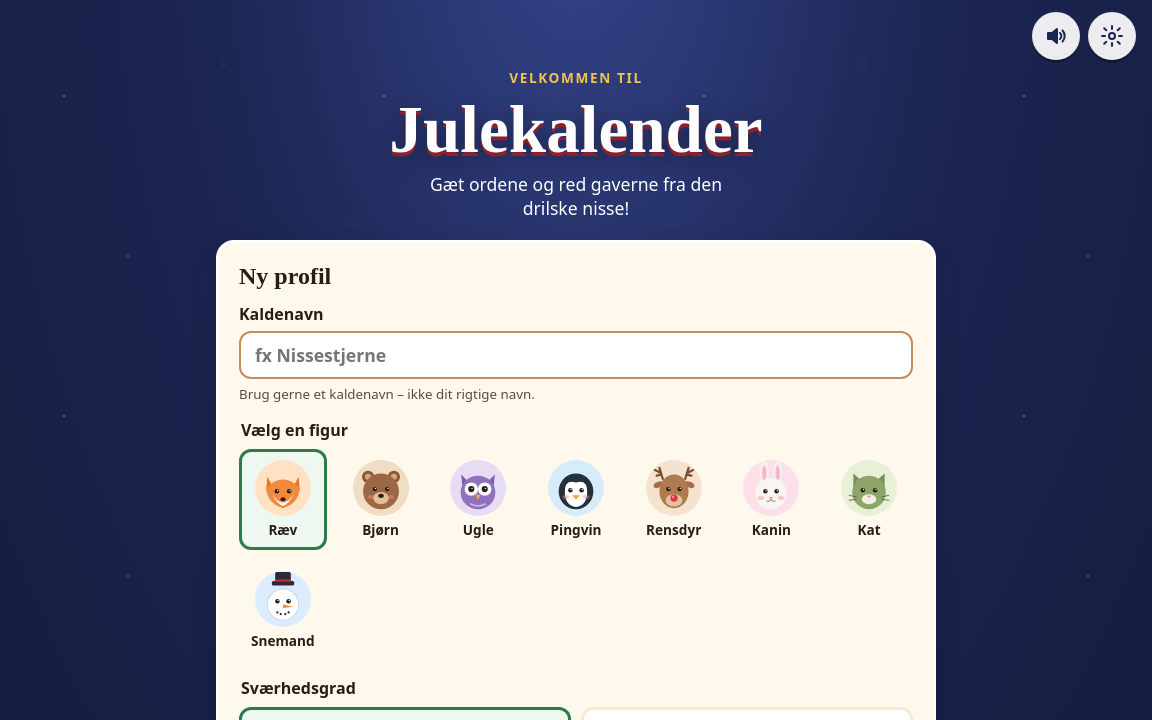
Test case: app-flow › Freeplay er tydeligt markeret og ændrer ikke kalendergaver
Later steps or results of the test are not shown.
In the field labelled "Kaldenavn Brug gerne et kaldenavn – ikke dit rigtige navn.": (576, 355) [239,331,913,379], type "Fri"
(page scrolled)
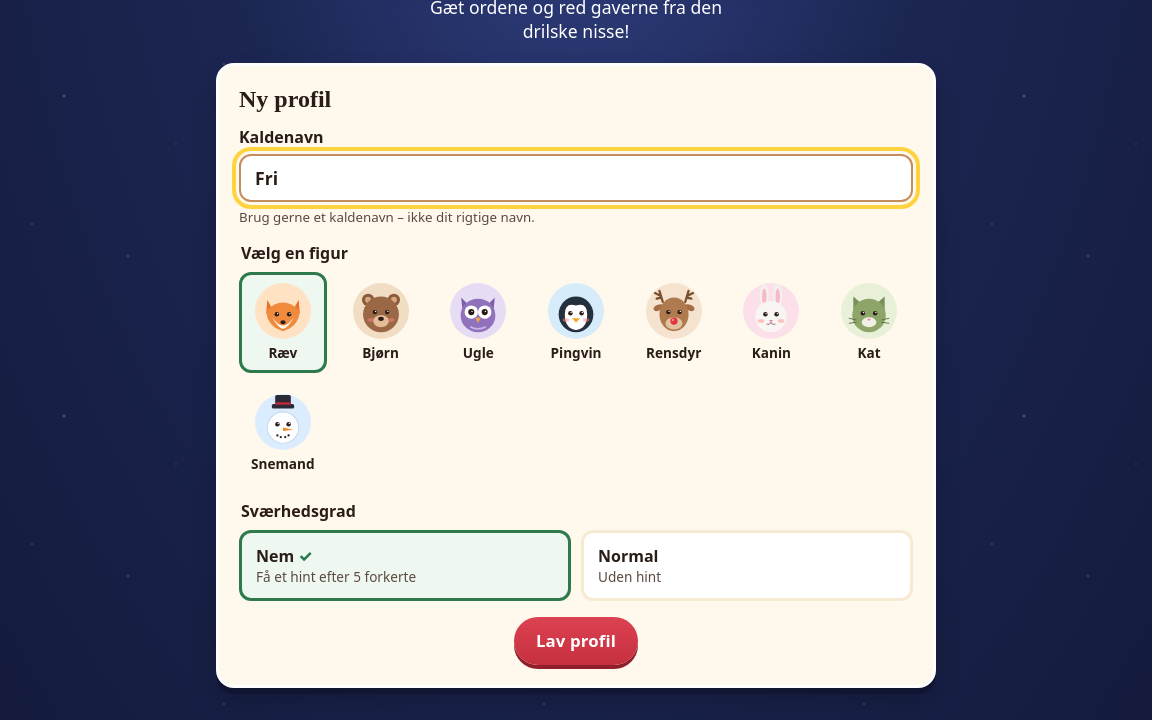
Click the text "Normal": (628, 556) [598,545,658,567]
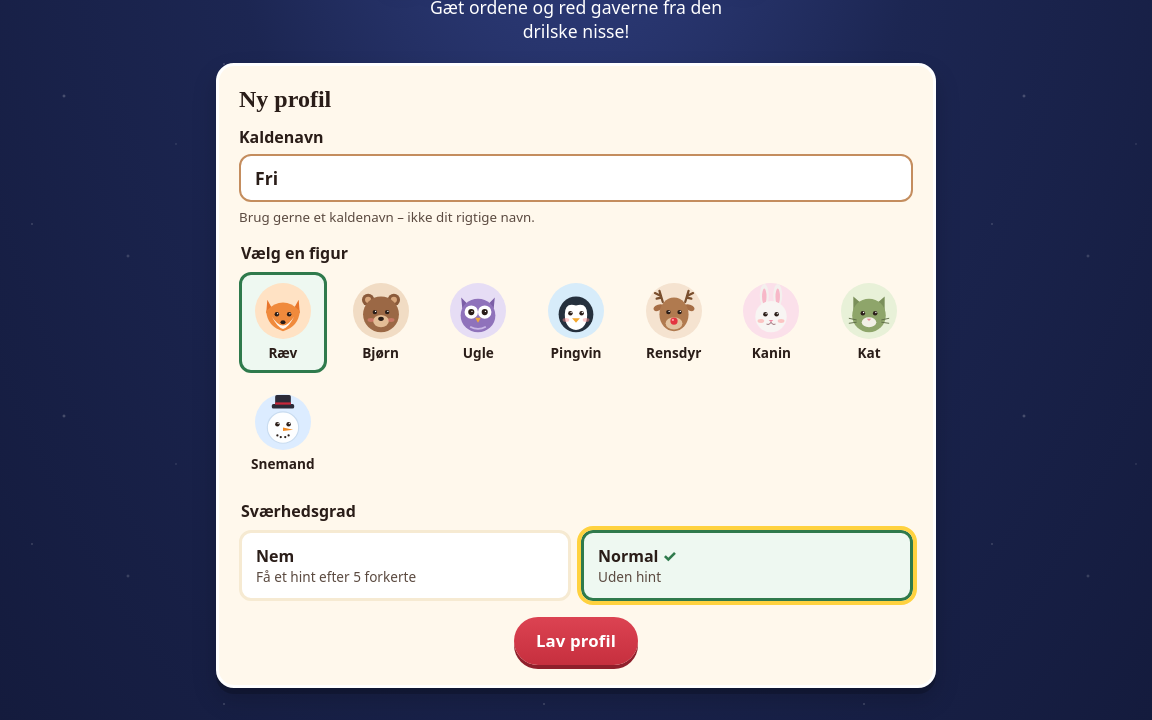
Click the button "Lav profil": (576, 641) [514,617,638,665]
(page scrolled)
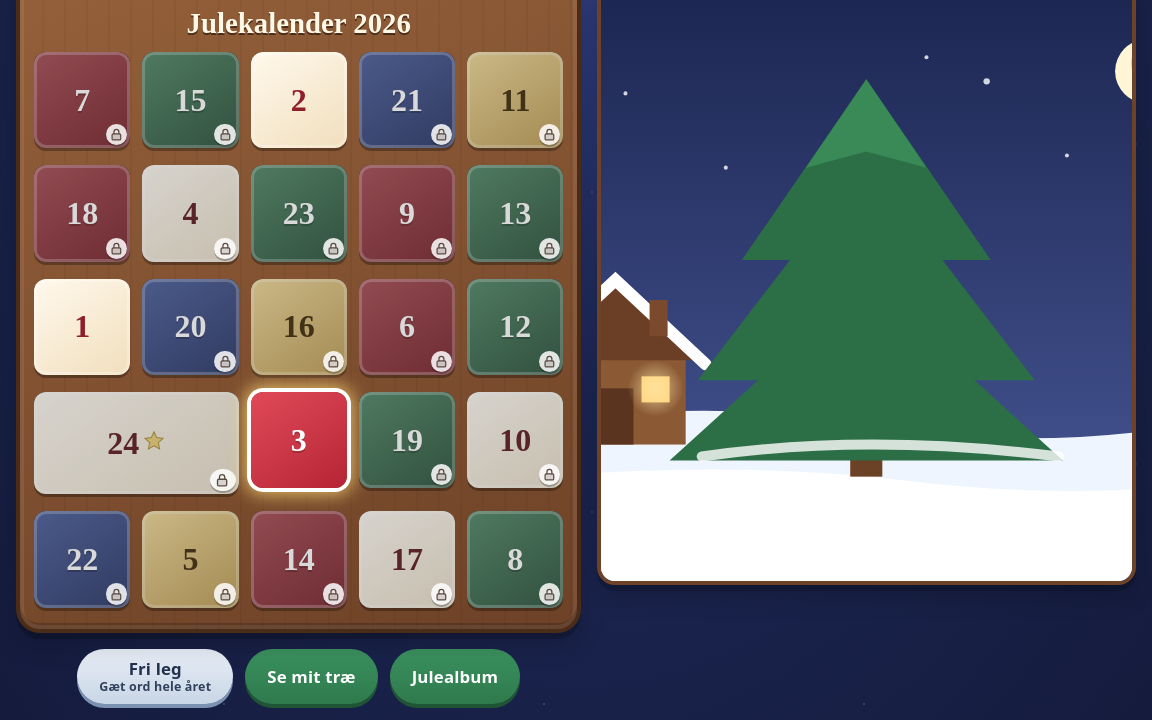
Click the button "Fri leg Gæt ord hele året": (155, 676) [77,649,233,704]
(page scrolled)
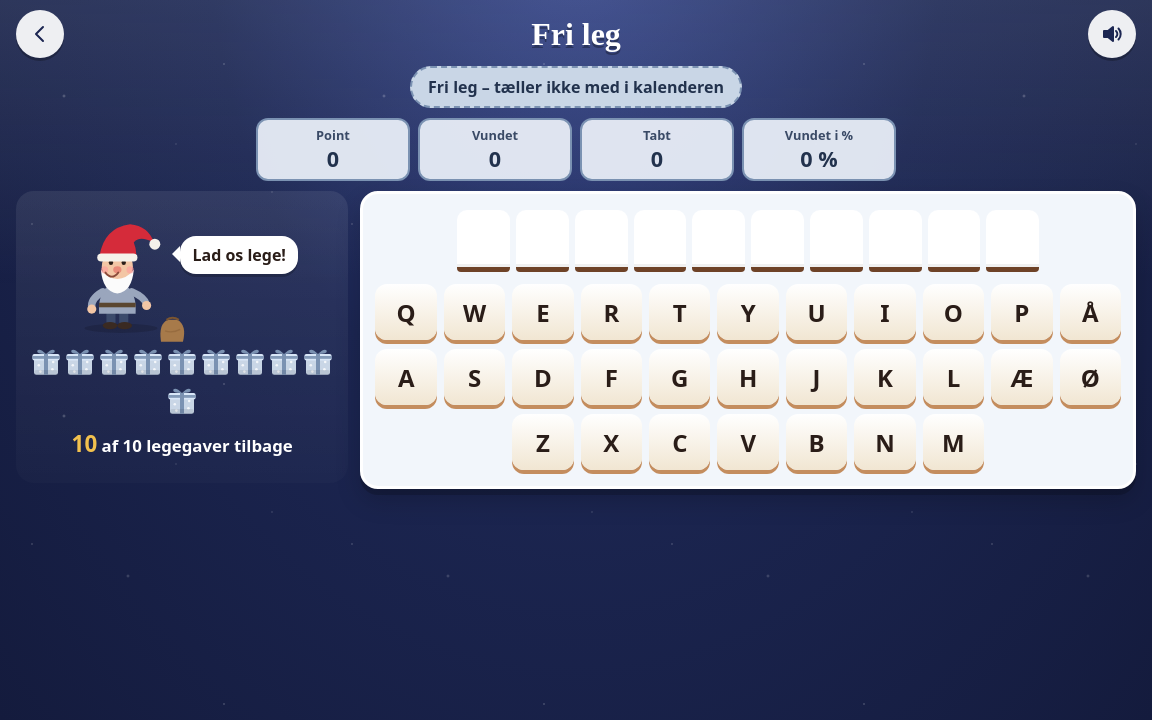
Result: the text "Fri leg – tæller ikke med i kalenderen" is shown at [410,66,742,108]
